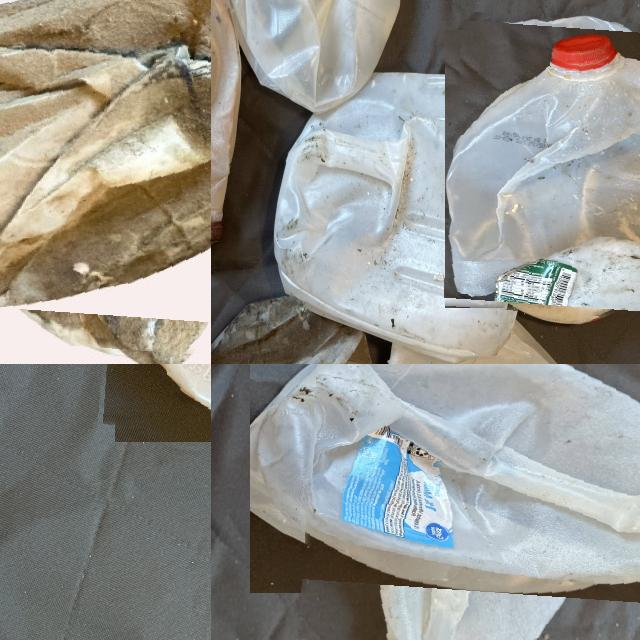milk-jug: (304, 364, 640, 640), (0, 0, 211, 352), (270, 66, 530, 332), (449, 16, 640, 320), (211, 0, 396, 116), (377, 307, 618, 364), (211, 299, 374, 364)
